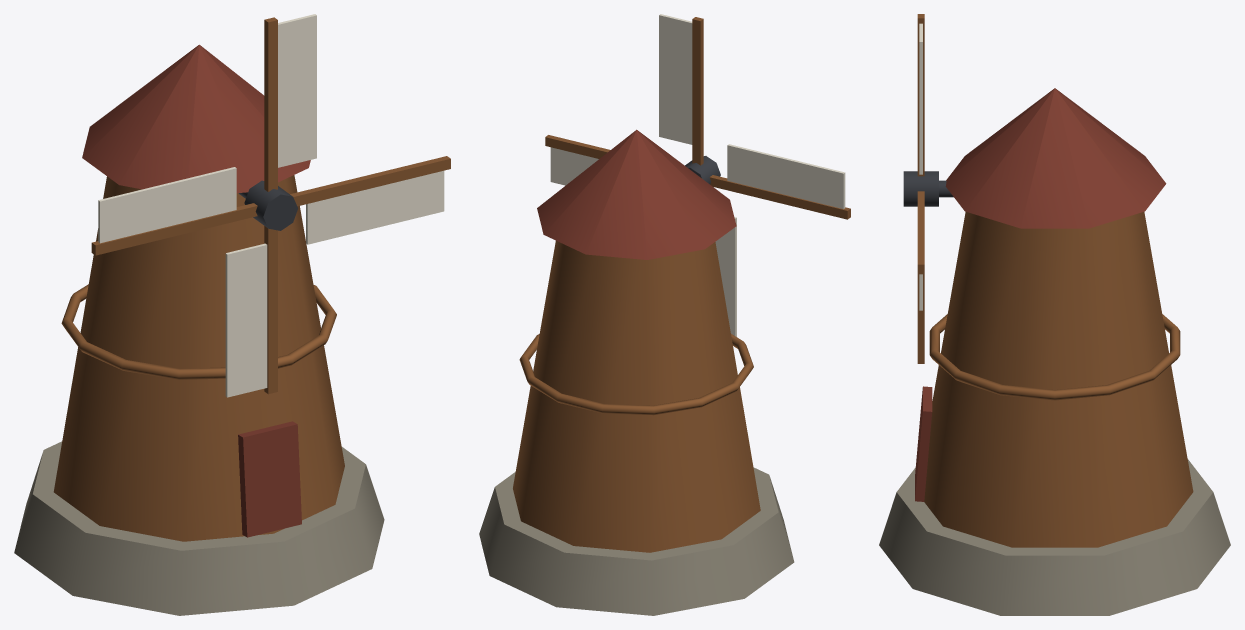
The model's file is farm-windmill.m1.glb.
The picture shows the model from 3 angles, left to right: view 1: azimuth 30°, elevation 25°; view 2: azimuth 150°, elevation 25°; view 3: azimuth 270°, elevation 25°; orthographic projection. The views are drawn at different scales.
Parts seen in each view (by area): view 1: tower_body, base_plinth, roof_cap, tower_door, blade_sail_3, blade_sail_2, blade_sail_4, blade_sail_1, deck_railing, blade_spar_1, blade_spar_4, blade_spar_2 (+2 smaller); view 2: tower_body, base_plinth, roof_cap, blade_sail_2, blade_sail_1, deck_railing, blade_spar_1, blade_sail_3, blade_spar_2, blade_sail_4, blade_spar_4, blade_hub; view 3: tower_body, base_plinth, roof_cap, deck_railing, tower_door, blade_hub, blade_spar_1, blade_spar_4, blade_spar_3, blade_sail_1.
Part boxes in pixels (left/top/right/bottom): tower_body: left=53, top=175, right=344, bottom=541; base_plinth: left=14, top=441, right=384, bottom=615; roof_cap: left=82, top=44, right=310, bottom=193; tower_door: left=238, top=421, right=301, bottom=537; blade_sail_3: left=225, top=243, right=267, bottom=397; blade_sail_2: left=98, top=167, right=236, bottom=243; blade_sail_4: left=306, top=170, right=444, bottom=244; blade_sail_1: left=278, top=14, right=316, bottom=167; deck_railing: left=61, top=284, right=336, bottom=379; blade_spar_1: left=264, top=17, right=277, bottom=191; blade_spar_4: left=290, top=156, right=450, bottom=206; blade_spar_2: left=91, top=203, right=257, bottom=255; tower_body: left=513, top=240, right=760, bottom=552; base_plinth: left=479, top=467, right=794, bottom=615; roof_cap: left=537, top=129, right=736, bottom=259; blade_sail_2: left=727, top=144, right=845, bottom=208; blade_sail_1: left=659, top=14, right=692, bottom=144; deck_railing: left=519, top=334, right=753, bottom=415; blade_spar_1: left=692, top=17, right=703, bottom=165; blade_sail_3: left=715, top=217, right=736, bottom=336; blade_spar_2: left=709, top=175, right=850, bottom=219; blade_sail_4: left=550, top=147, right=598, bottom=185; blade_spar_4: left=545, top=135, right=610, bottom=158; blade_hub: left=685, top=156, right=720, bottom=184; tower_body: left=924, top=212, right=1193, bottom=547; base_plinth: left=879, top=459, right=1230, bottom=615; roof_cap: left=945, top=88, right=1166, bottom=228; deck_railing: left=929, top=314, right=1180, bottom=400; tower_door: left=915, top=386, right=932, bottom=501; blade_hub: left=903, top=171, right=938, bottom=206; blade_spar_1: left=917, top=14, right=924, bottom=176; blade_spar_4: left=917, top=191, right=924, bottom=274; blade_spar_3: left=917, top=274, right=924, bottom=363; blade_sail_1: left=919, top=23, right=922, bottom=174.
Bounding box in the file's own units: 3.25 × 4.97 × 3.
